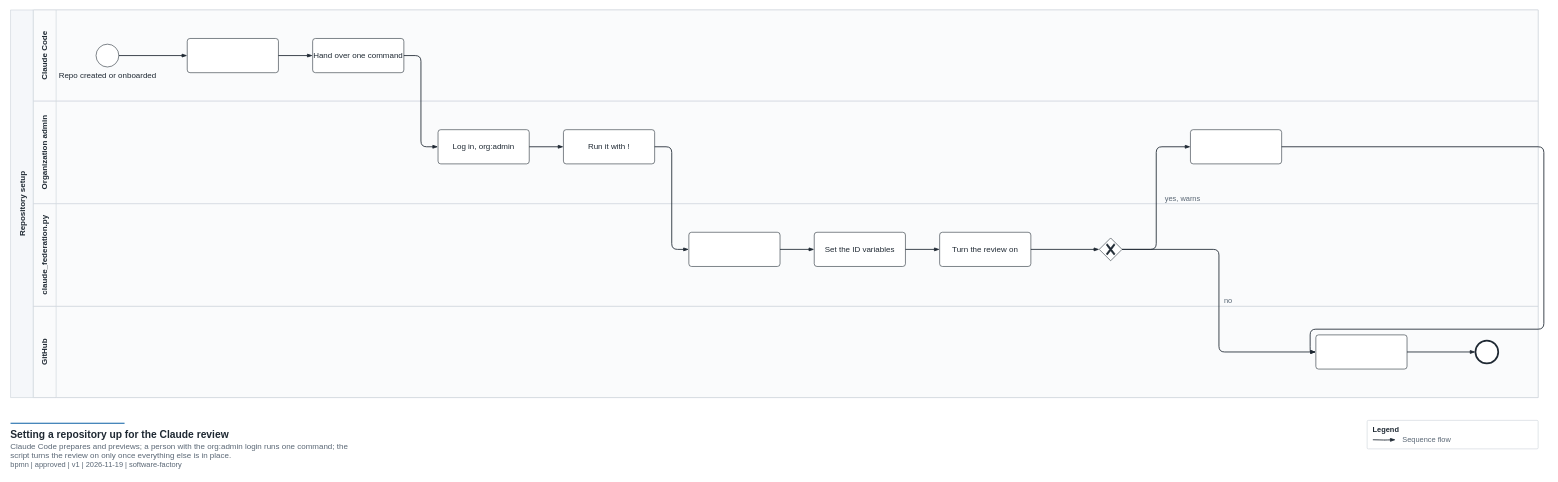
Image size: 1558x482. Some labels were removed from this diagram. The shapes that lost their labels are listed below. From the top down, each one's centre as x and y in pixels, then its label:
At (x=232, y=55): "Preview the rules".
At (x=1236, y=146): "Delete the secret".
At (x=734, y=249): "Create or reuse rules".
At (x=1110, y=249): "API key secret?".
At (x=1361, y=351): "Next pull request reviewed".
At (x=1486, y=351): "Review running".
